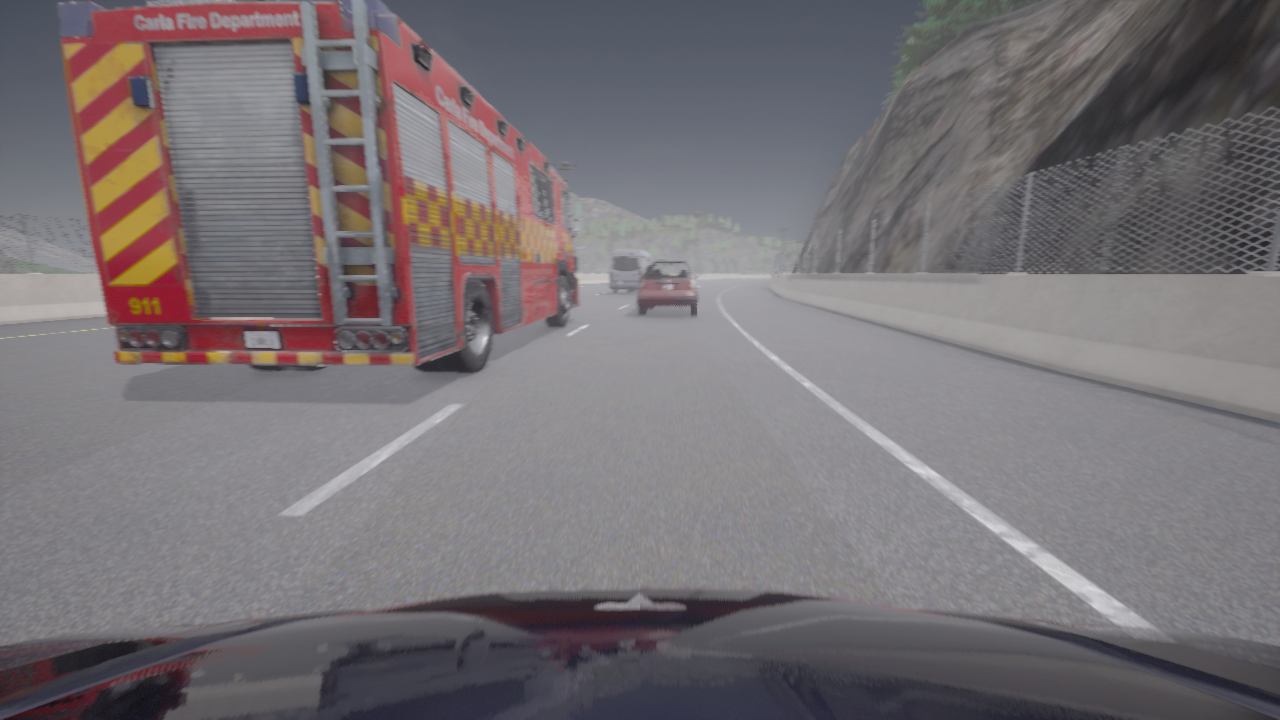cyclist: (58, 0, 584, 373), (0, 588, 1279, 719), (637, 259, 700, 316), (609, 249, 652, 293)
